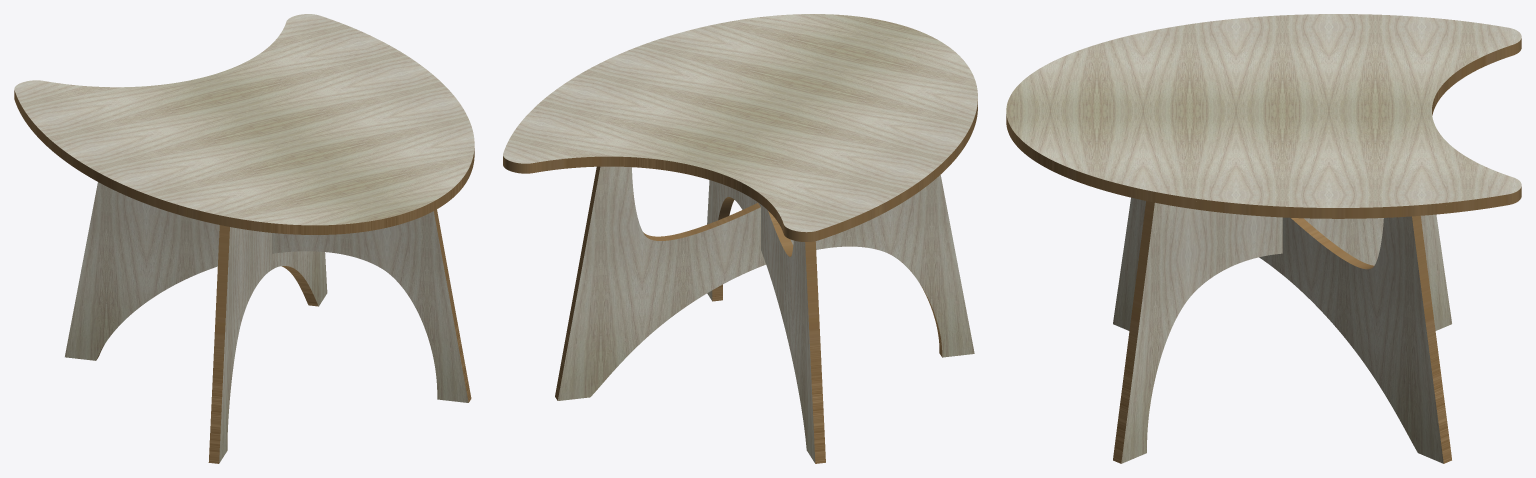
Rendered from NODO_RATONA_CRUZ_KIRI_V1.glb.
3 renders of one model, left to right at view 1: azimuth 30°, elevation 25°; view 2: azimuth 150°, elevation 25°; view 3: azimuth 270°, elevation 25°, orthographic. The views are drawn at different scales.
Visible parts, largest first — view 1: Tapa, Lateral_2, Lateral_1; view 2: Tapa, Lateral_1, Lateral_2; view 3: Tapa, Lateral_1, Lateral_2.
Part boxes in pixels (x1,y1,x2,y2): Tapa: (14, 14, 474, 234); Lateral_2: (65, 182, 471, 402); Lateral_1: (208, 225, 327, 463); Tapa: (503, 14, 977, 241); Lateral_1: (555, 166, 974, 400); Lateral_2: (707, 180, 825, 463); Tapa: (1006, 14, 1521, 218); Lateral_1: (1113, 197, 1451, 463); Lateral_2: (1113, 201, 1451, 463).
Size of the model in its own units: 0.6924 by 0.468 by 0.7771.
2 materials, 2 textured.
